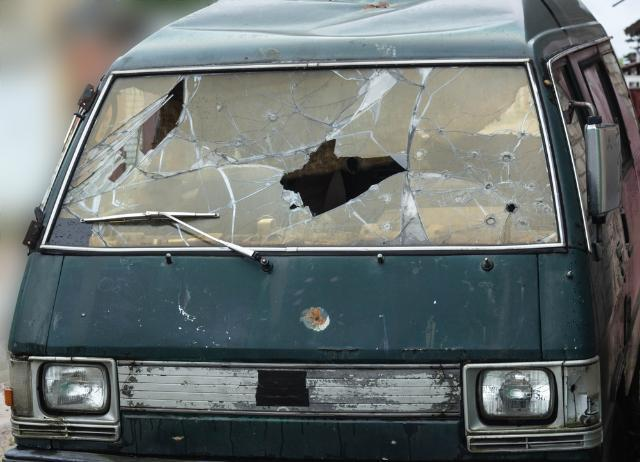dent: (167, 0, 523, 40)
glass shatter: (46, 64, 560, 248)
